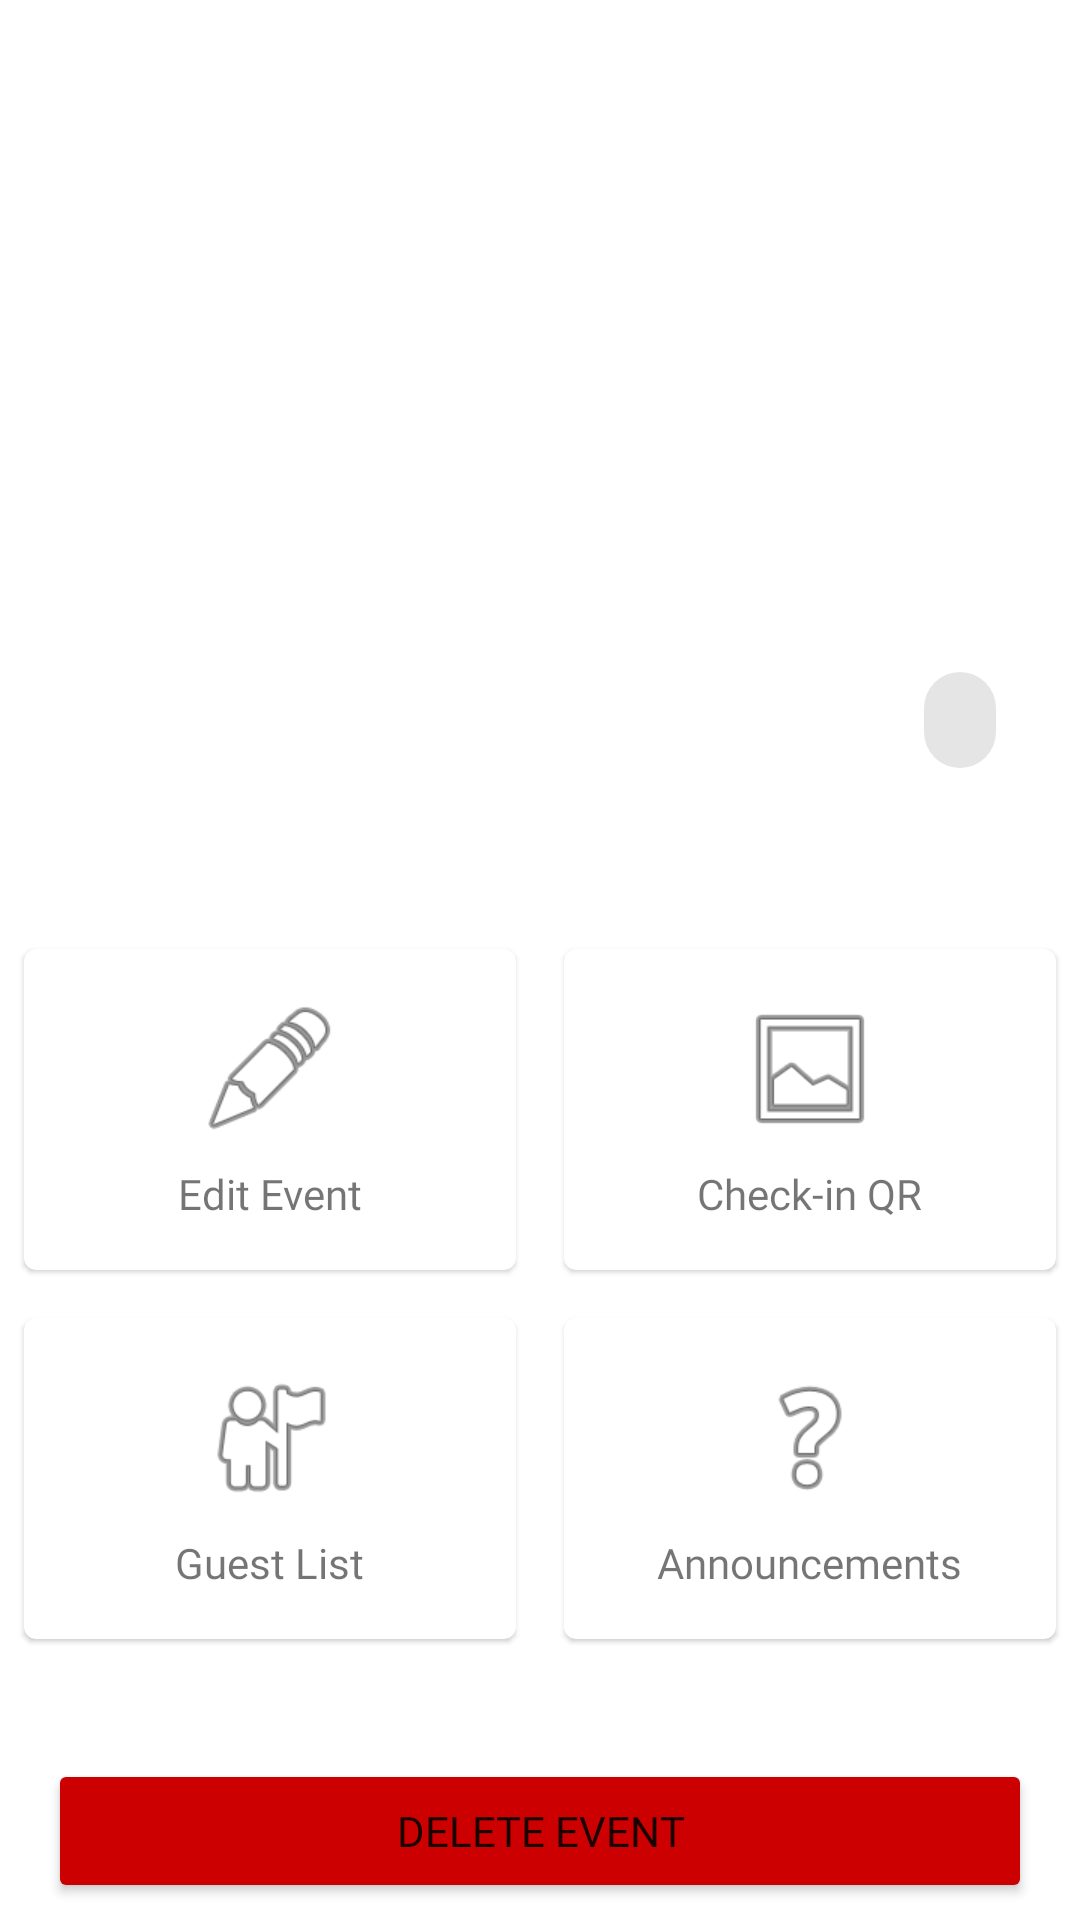

Icon click points for this 1080px×1920px phone screenshot, format (x,y):
gallery: (810,1069)
help: (810,1438)
myplaces: (271,1438)
